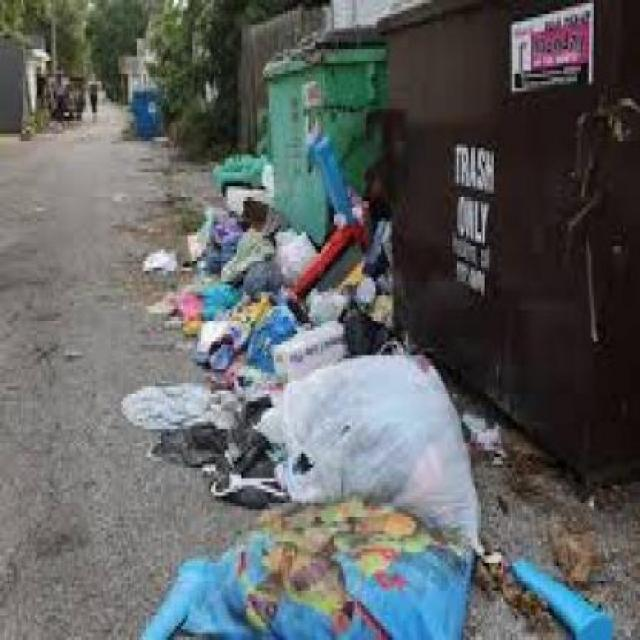garbage: (155, 229, 470, 636)
